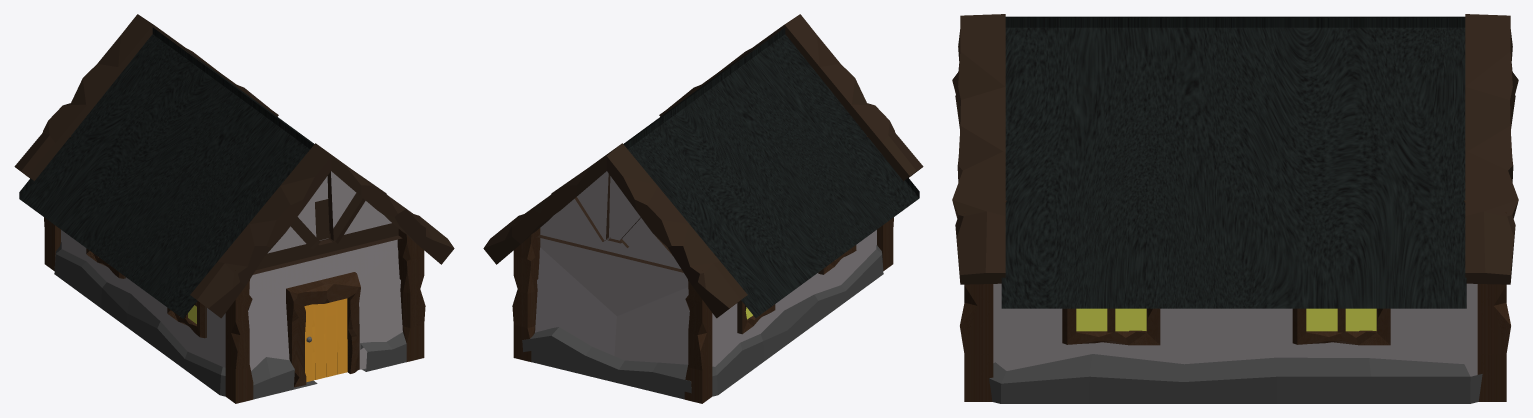
The model's file is medieval_house_medium_03.fbx.
3 renders of one model, left to right at view 1: azimuth 30°, elevation 25°; view 2: azimuth 150°, elevation 25°; view 3: azimuth 270°, elevation 25°, orthographic. The views are drawn at different scales.
Parts seen in each view (by area): view 1: roof, wood_interior, house_wall, stone_wall, wooden_door, Plane.014; view 2: roof, house_wall, wood_interior, stone_wall, Plane.014; view 3: roof, wood_interior, stone_wall, house_wall, Plane.014, window.
Part boxes in pixels (left/top/right/bottom): roof: left=19, top=27, right=314, bottom=318; wood_interior: left=14, top=14, right=454, bottom=403; house_wall: left=61, top=171, right=402, bottom=370; stone_wall: left=54, top=242, right=406, bottom=399; wooden_door: left=304, top=298, right=347, bottom=382; Plane.014: left=86, top=248, right=206, bottom=338; roof: left=623, top=27, right=919, bottom=317; house_wall: left=535, top=171, right=876, bottom=366; wood_interior: left=483, top=14, right=923, bottom=403; stone_wall: left=522, top=245, right=883, bottom=399; Plane.014: left=737, top=245, right=856, bottom=334; roof: left=1001, top=16, right=1466, bottom=308; wood_interior: left=952, top=14, right=1518, bottom=401; stone_wall: left=989, top=354, right=1482, bottom=403; house_wall: left=993, top=283, right=1477, bottom=376; Plane.014: left=1062, top=308, right=1390, bottom=345; window: left=1076, top=308, right=1376, bottom=331.
Size of the model in its own units: 895 by 727 by 1158.
Materials: 7 (2 with a texture image).
